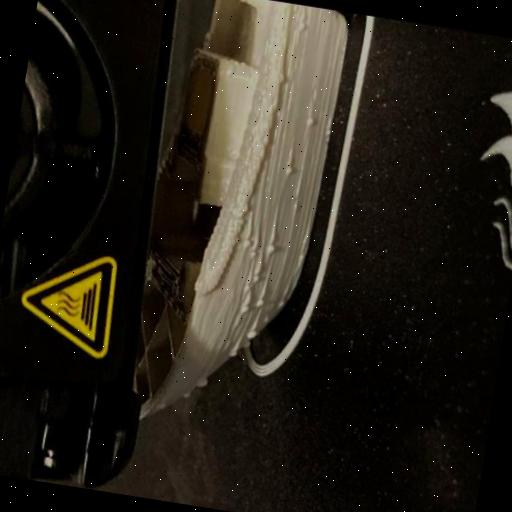blobs: (234, 230, 256, 256), (262, 238, 284, 260), (252, 294, 272, 316), (242, 324, 262, 342), (300, 114, 317, 132), (247, 270, 263, 288), (191, 374, 210, 389), (282, 160, 296, 178), (236, 302, 251, 316), (226, 346, 240, 360)
